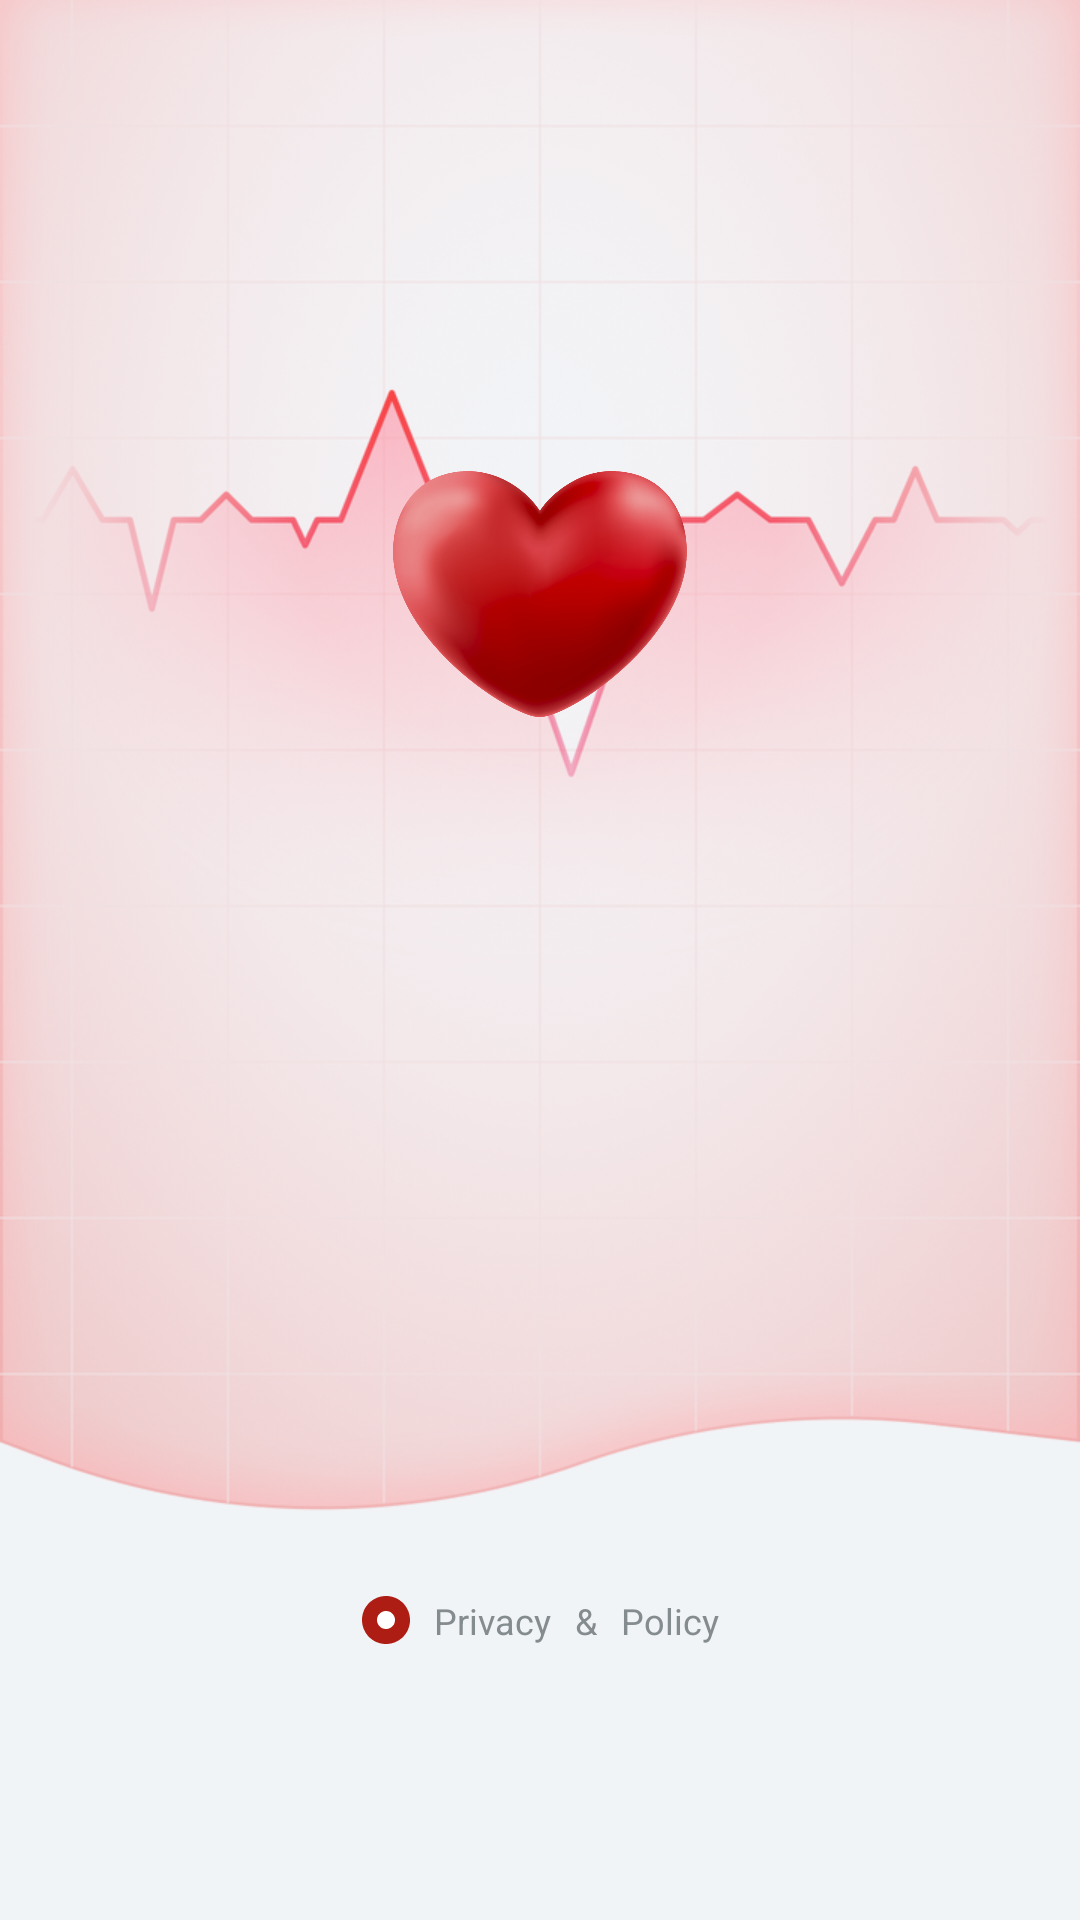

Point at icon controls on the screen. Image size 1080w x 1920h, points as (x=x, y=y).
heart: (x=540, y=594)
